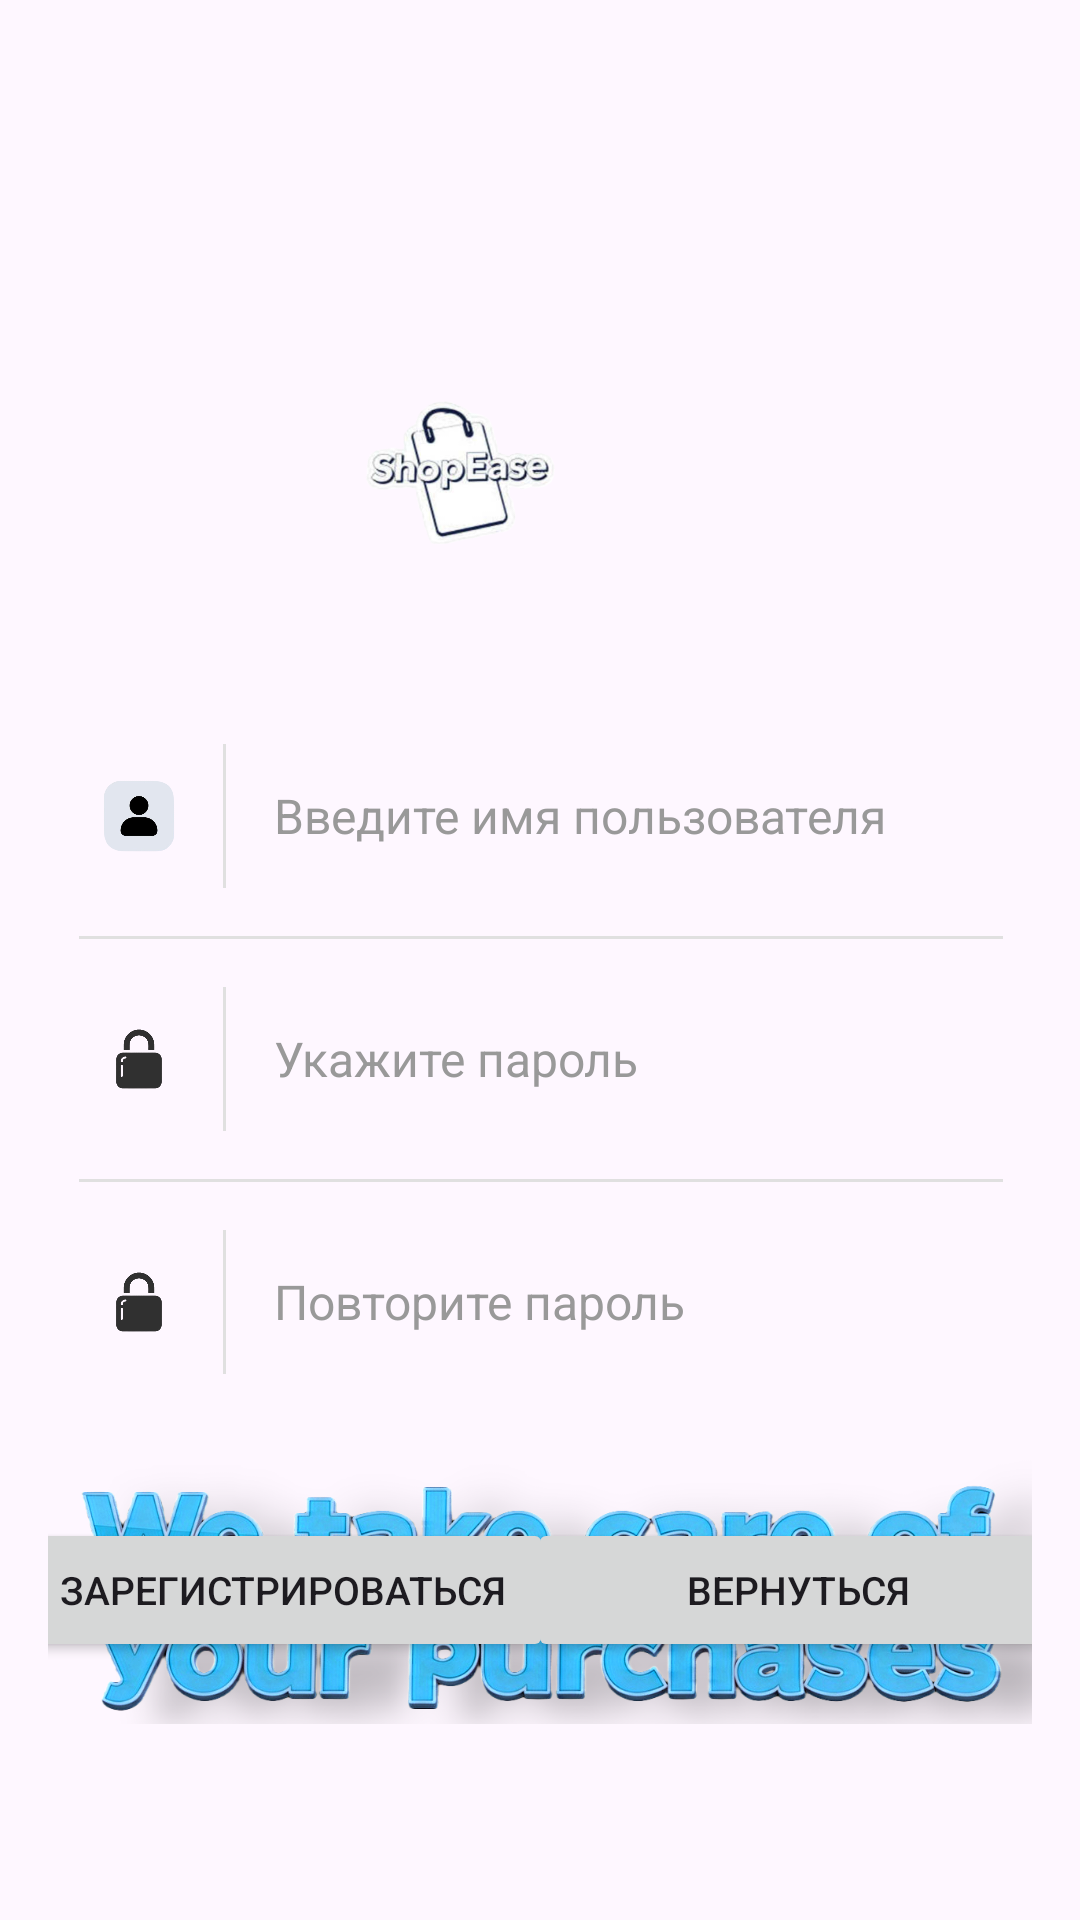

Screen size 1080 × 1920. Icon name, then its center in pixels as [x,y]:
passicon: [139,1059], [139,1302]
usericon: [139,816]
